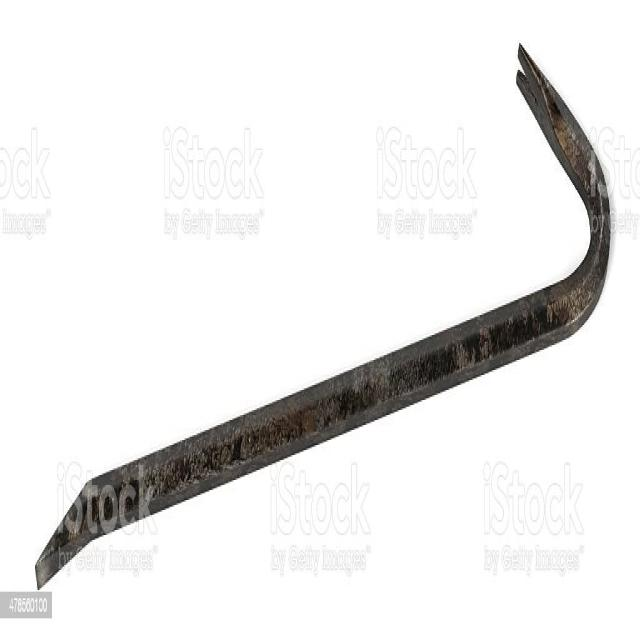Linggis: (38, 41, 612, 589)
